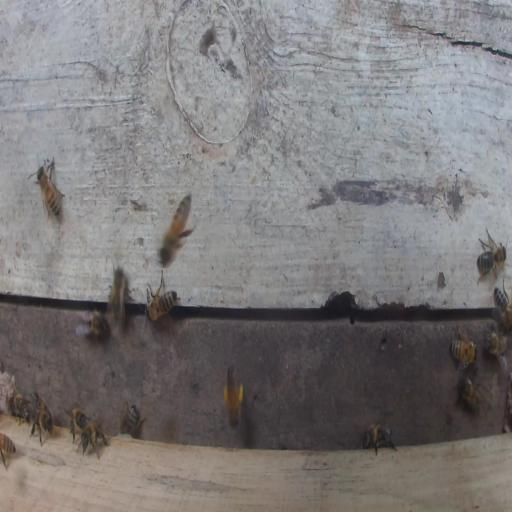bee: (160, 193, 195, 265), (30, 156, 65, 219), (145, 270, 179, 323), (476, 229, 505, 283), (30, 392, 54, 447), (224, 365, 243, 429), (362, 422, 396, 455), (109, 264, 126, 326), (75, 309, 110, 339), (450, 335, 478, 367), (493, 286, 512, 332), (459, 378, 484, 412), (67, 406, 90, 442), (119, 401, 143, 435), (0, 431, 16, 471), (484, 330, 507, 357), (11, 392, 31, 423), (82, 423, 101, 451)
